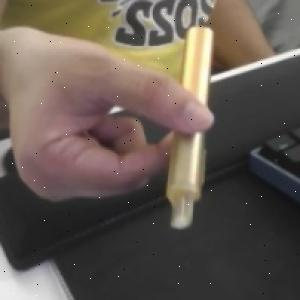Golden-E-Ciggirate: (164, 19, 216, 232)
